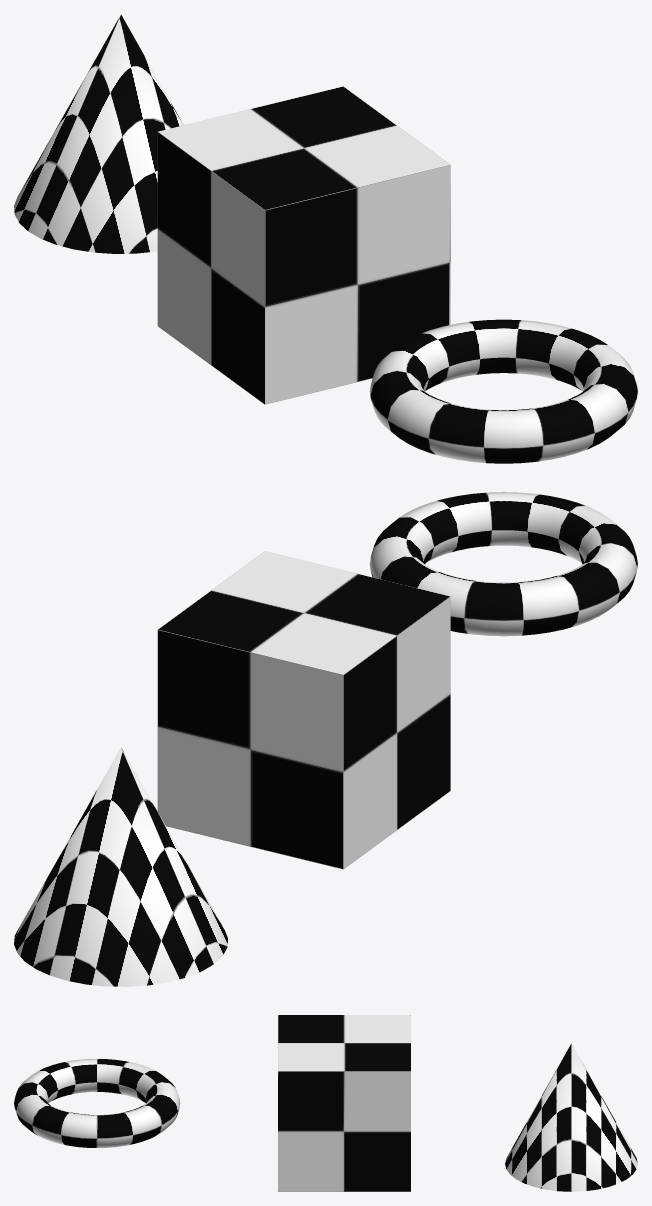
File: OPENGL.dae
3 views of the same model, one above another, from view 1: azimuth 30°, elevation 25°; view 2: azimuth 150°, elevation 25°; view 3: azimuth 270°, elevation 25° (orthographic). The views are drawn at different scales.
Visible parts, largest first — view 1: Cube, Torus, Cone; view 2: Cube, Cone, Torus; view 3: Cube, Cone, Torus.
Part boxes in pixels (x1,y1,x2,y2): Cube: [157, 86, 450, 404]; Torus: [369, 319, 637, 463]; Cone: [14, 14, 183, 253]; Cube: [157, 551, 450, 869]; Cone: [14, 747, 227, 986]; Torus: [369, 492, 637, 636]; Cube: [278, 1015, 410, 1191]; Cone: [505, 1043, 637, 1191]; Torus: [14, 1059, 180, 1147].
Bounding box in the file's own units: 2.5 × 9.38 × 2.
1 material, 1 textured.
